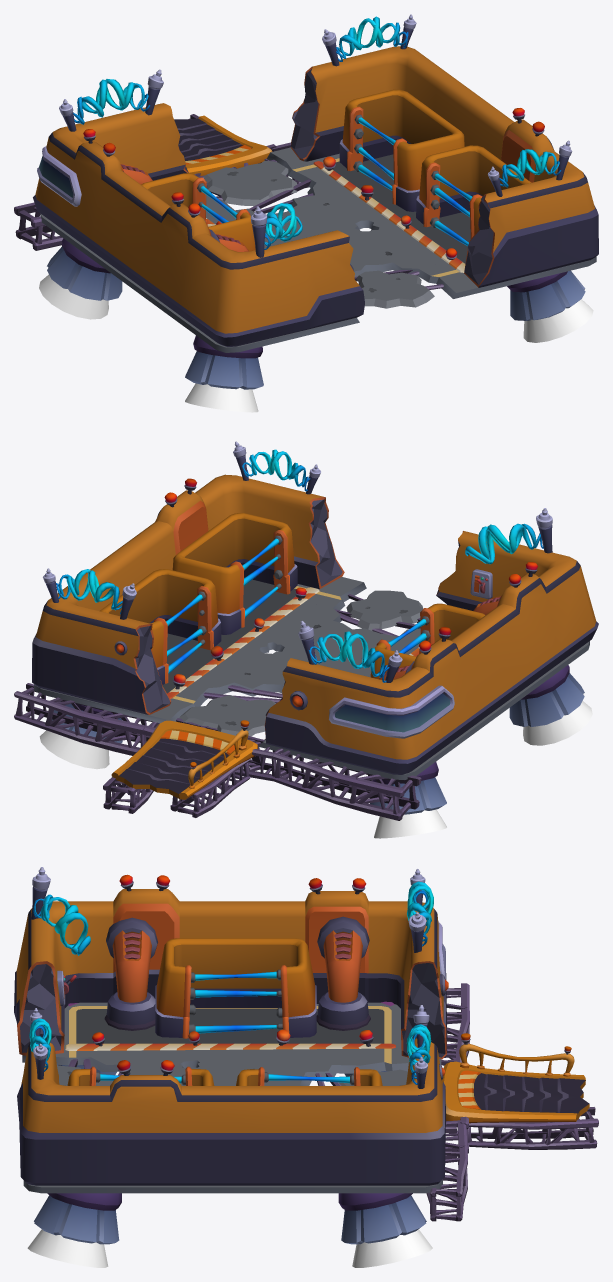
Rendered from SM_Room_01.fbx.
3 views of the same model, one above another, from view 1: azimuth 30°, elevation 25°; view 2: azimuth 150°, elevation 25°; view 3: azimuth 270°, elevation 25° (orthographic). The views are drawn at different scales.
Parts seen in each view (by area): view 1: SM_Room_01; view 2: SM_Room_01; view 3: SM_Room_01.
Boxes of the visible parts, left/top/right/bottom form: SM_Room_01: left=14, top=14, right=598, bottom=412; SM_Room_01: left=14, top=441, right=598, bottom=838; SM_Room_01: left=14, top=867, right=598, bottom=1267.
Size of the model in its own units: 17.98 by 9.23 by 20.74.
